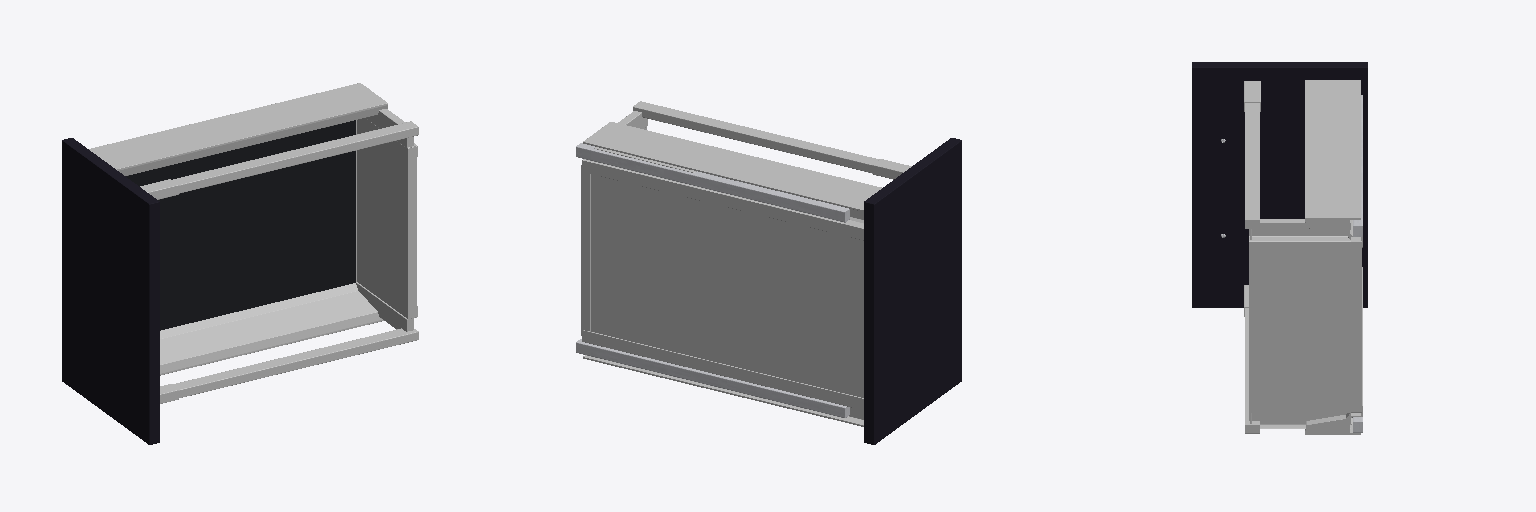
3 renders of one model, left to right at view 1: azimuth 30°, elevation 25°; view 2: azimuth 150°, elevation 25°; view 3: azimuth 270°, elevation 25°, orthographic.
Visible parts, largest first — view 1: SM_Kitchen_06_Drawer_021d01d01d0_SM_Kitchen_06_Base_Drawer_02; view 2: SM_Kitchen_06_Drawer_021d01d01d0_SM_Kitchen_06_Base_Drawer_02; view 3: SM_Kitchen_06_Drawer_021d01d01d0_SM_Kitchen_06_Base_Drawer_02.
Part boxes in pixels (x1,y1,x2,y2): SM_Kitchen_06_Drawer_021d01d01d0_SM_Kitchen_06_Base_Drawer_02: (62,83,418,444); SM_Kitchen_06_Drawer_021d01d01d0_SM_Kitchen_06_Base_Drawer_02: (576,101,961,444); SM_Kitchen_06_Drawer_021d01d01d0_SM_Kitchen_06_Base_Drawer_02: (1192,62,1367,434).
Size of the model in its own units: 0.5199 by 0.398 by 0.263.
Materials: 4 (3 with a texture image).